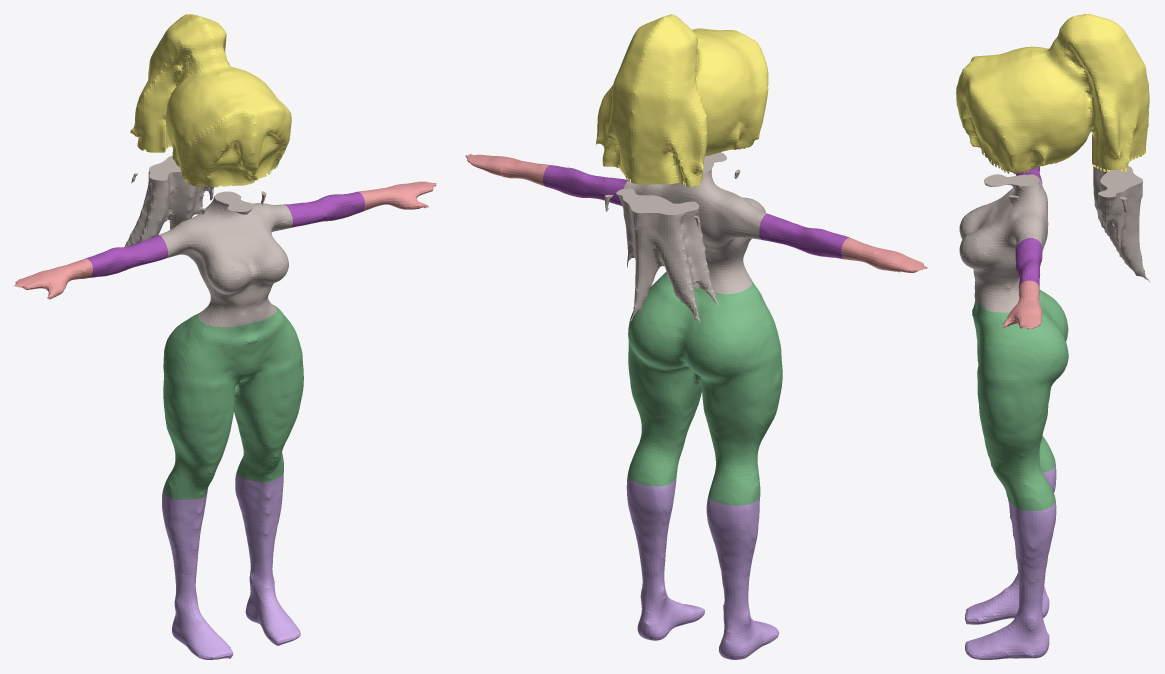
File: tpose_perfect_fixed_axes_godmode_solid.glb
3 views of the same model, side by side, from view 1: azimuth 30°, elevation 25°; view 2: azimuth 150°, elevation 25°; view 3: azimuth 270°, elevation 25° (orthographic). The views are drawn at different scales.
Parts seen in each view (by area): view 1: Part_HEAD_HAIR, Part_TORSO, Part_LEG_UPPER_L, Part_LEG_UPPER_R, Part_LEG_LOWER_R, Part_LEG_LOWER_L, Part_ARM_UPPER_L, Part_ARM_UPPER_R, Part_ARM_LOWER_L, Part_ARM_LOWER_R; view 2: Part_HEAD_HAIR, Part_LEG_UPPER_L, Part_TORSO, Part_LEG_UPPER_R, Part_LEG_LOWER_L, Part_LEG_LOWER_R, Part_ARM_UPPER_L, Part_ARM_UPPER_R, Part_ARM_LOWER_L, Part_ARM_LOWER_R; view 3: Part_HEAD_HAIR, Part_LEG_UPPER_R, Part_TORSO, Part_LEG_LOWER_R, Part_LEG_LOWER_L, Part_ARM_LOWER_R, Part_LEG_UPPER_L, Part_ARM_UPPER_R.
Part boxes in pixels (<box>): Part_HEAD_HAIR: <box>130,14,291,187</box>; Part_TORSO: <box>124,155,292,327</box>; Part_LEG_UPPER_L: <box>163,313,251,499</box>; Part_LEG_UPPER_R: <box>234,305,303,482</box>; Part_LEG_LOWER_R: <box>235,472,300,645</box>; Part_LEG_LOWER_L: <box>162,491,233,659</box>; Part_ARM_UPPER_L: <box>86,235,167,277</box>; Part_ARM_UPPER_R: <box>284,191,364,227</box>; Part_ARM_LOWER_L: <box>14,258,92,299</box>; Part_ARM_LOWER_R: <box>358,181,436,211</box>; Part_HEAD_HAIR: <box>596,14,768,187</box>; Part_LEG_UPPER_L: <box>681,281,782,505</box>; Part_TORSO: <box>604,152,767,321</box>; Part_LEG_UPPER_R: <box>628,272,701,486</box>; Part_LEG_LOWER_L: <box>706,496,779,659</box>; Part_LEG_LOWER_R: <box>626,475,704,640</box>; Part_ARM_UPPER_L: <box>759,214,849,259</box>; Part_ARM_UPPER_R: <box>543,165,628,205</box>; Part_ARM_LOWER_L: <box>841,237,927,272</box>; Part_ARM_LOWER_R: <box>465,153,549,186</box>; Part_HEAD_HAIR: <box>956,14,1149,174</box>; Part_LEG_UPPER_R: <box>972,300,1068,510</box>; Part_TORSO: <box>959,166,1150,312</box>; Part_LEG_LOWER_R: <box>965,500,1056,659</box>; Part_LEG_LOWER_L: <box>965,464,1056,624</box>; Part_ARM_LOWER_R: <box>1001,280,1042,329</box>; Part_LEG_UPPER_L: <box>972,289,1068,472</box>; Part_ARM_UPPER_R: <box>1015,238,1042,287</box>.
Size of the model in its own units: 1.46 by 1.96 by 0.5555.
